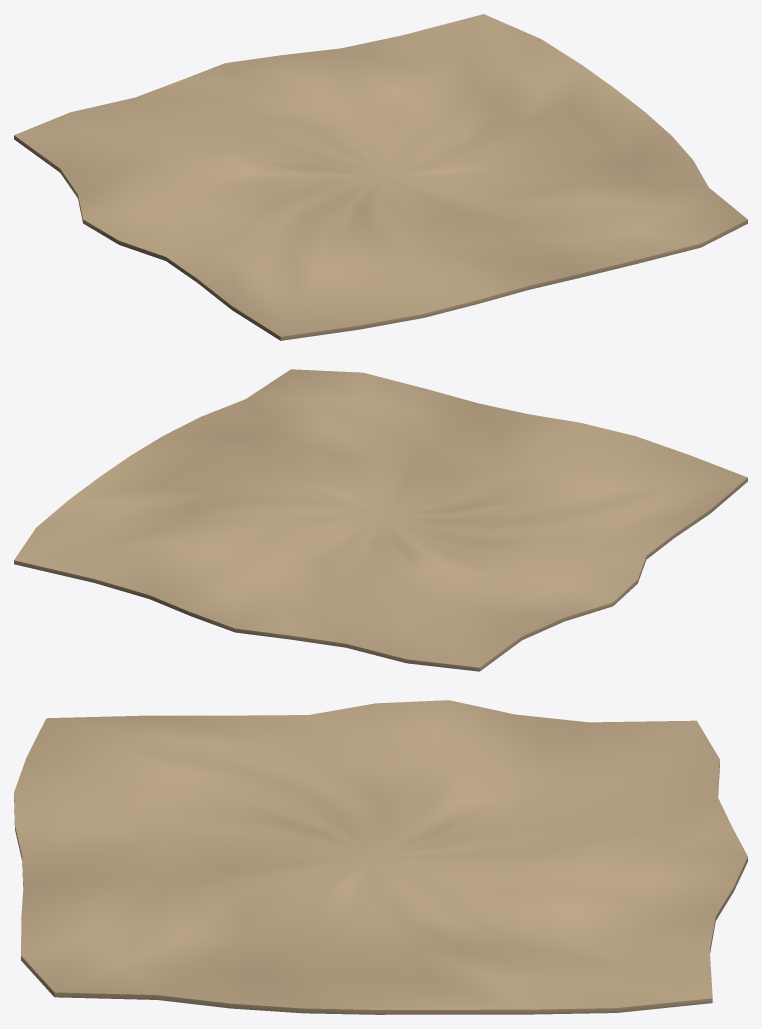
Rendered from gale_ram_hide.glb.
The picture shows the model from 3 angles, top to bottom: view 1: azimuth 30°, elevation 25°; view 2: azimuth 150°, elevation 25°; view 3: azimuth 270°, elevation 25°; orthographic projection. The views are drawn at different scales.
Parts seen in each view (by area): view 1: gale_ram_hide; view 2: gale_ram_hide; view 3: gale_ram_hide.
Part boxes in pixels (x1=…): gale_ram_hide: x1=14, y1=14, x2=747, y2=340; gale_ram_hide: x1=14, y1=369, x2=747, y2=671; gale_ram_hide: x1=14, y1=700, x2=747, y2=1014.
Size of the model in its own units: 0.22 by 0.003 by 0.22.
